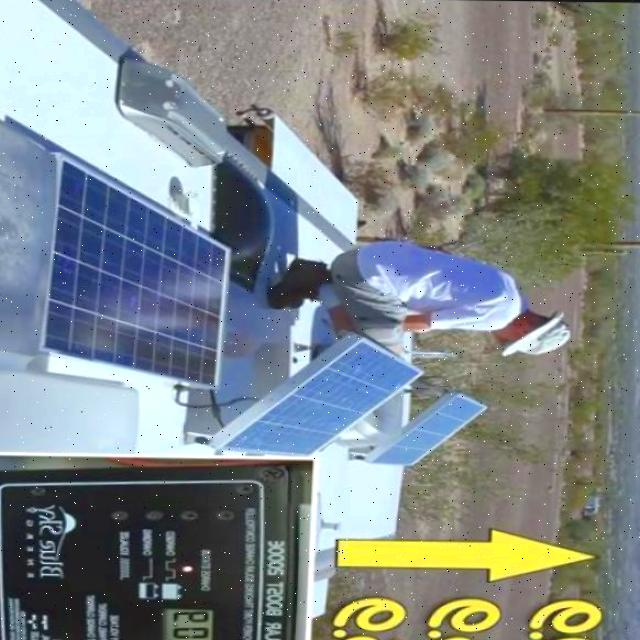Normal Solar Panel: (36, 156, 228, 389), (212, 336, 421, 459), (370, 392, 484, 466)
